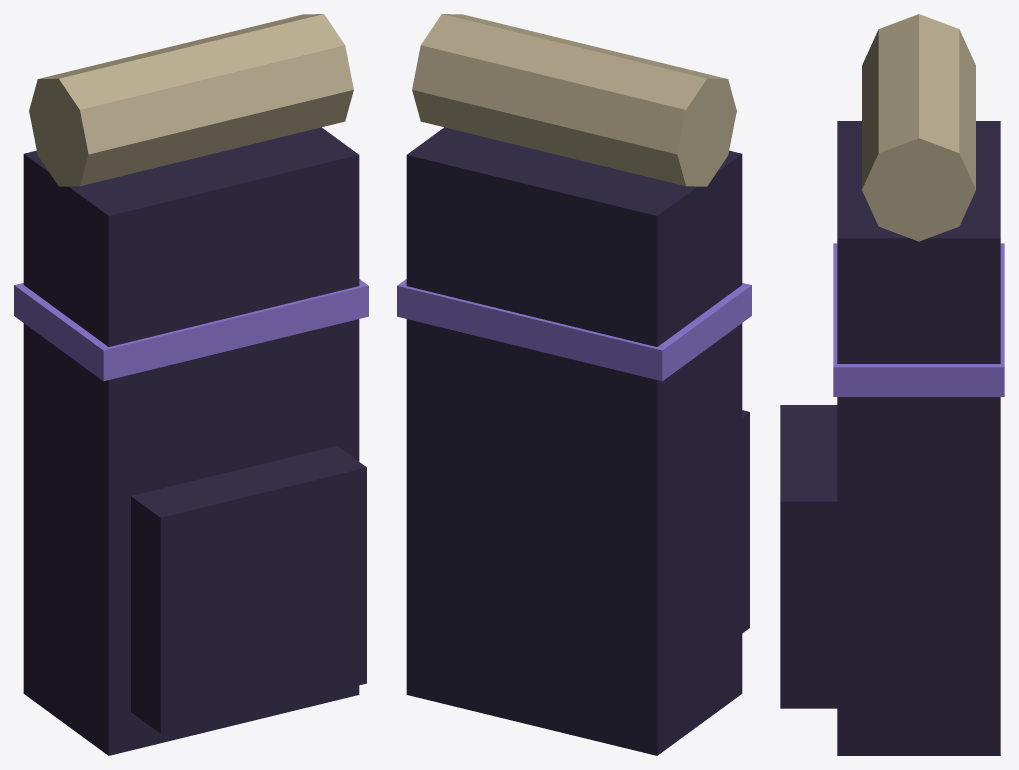
Rendered from backpack_lv3.glb.
The picture shows the model from 3 angles, left to right: view 1: azimuth 30°, elevation 25°; view 2: azimuth 150°, elevation 25°; view 3: azimuth 270°, elevation 25°; orthographic projection. The views are drawn at different scales.
Visible parts, largest first — view 1: model; view 2: model; view 3: model.
Boxes of the visible parts, x1=… form: model: x1=14, y1=14, x2=368, y2=755; model: x1=397, y1=14, x2=751, y2=755; model: x1=780, y1=14, x2=1004, y2=755.
Size of the model in its own units: 0.36 by 0.84 by 0.275.
